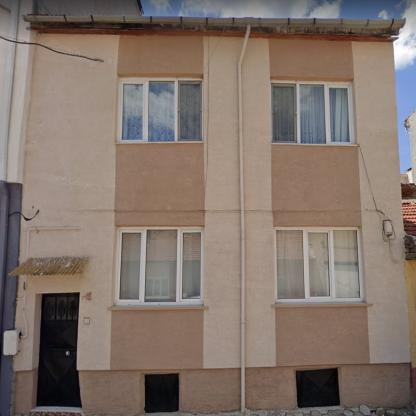door: (37, 293, 77, 405)
window: (116, 226, 203, 306), (274, 226, 364, 302), (118, 78, 202, 143), (272, 83, 356, 142)
